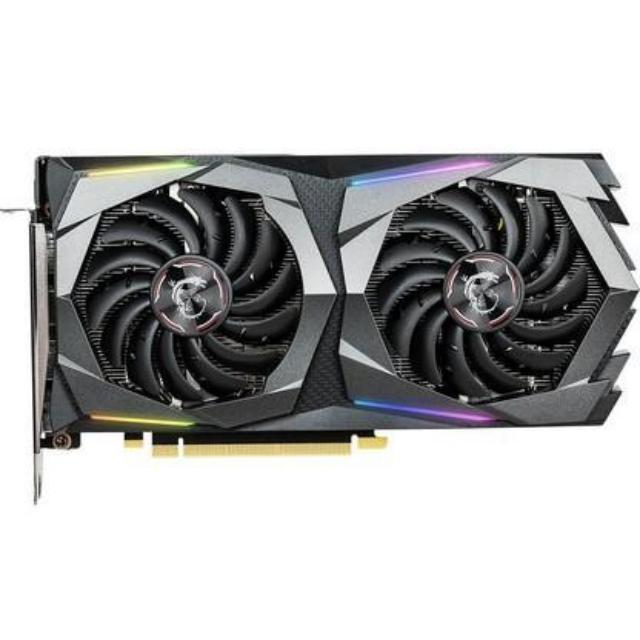GPU: (28, 156, 634, 454)
